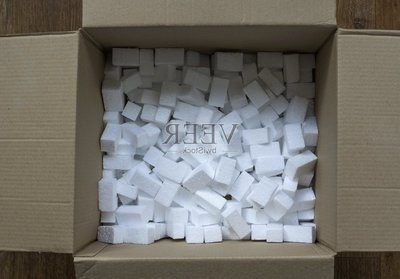5/可回收垃圾/泡沫: (98, 45, 317, 242)
